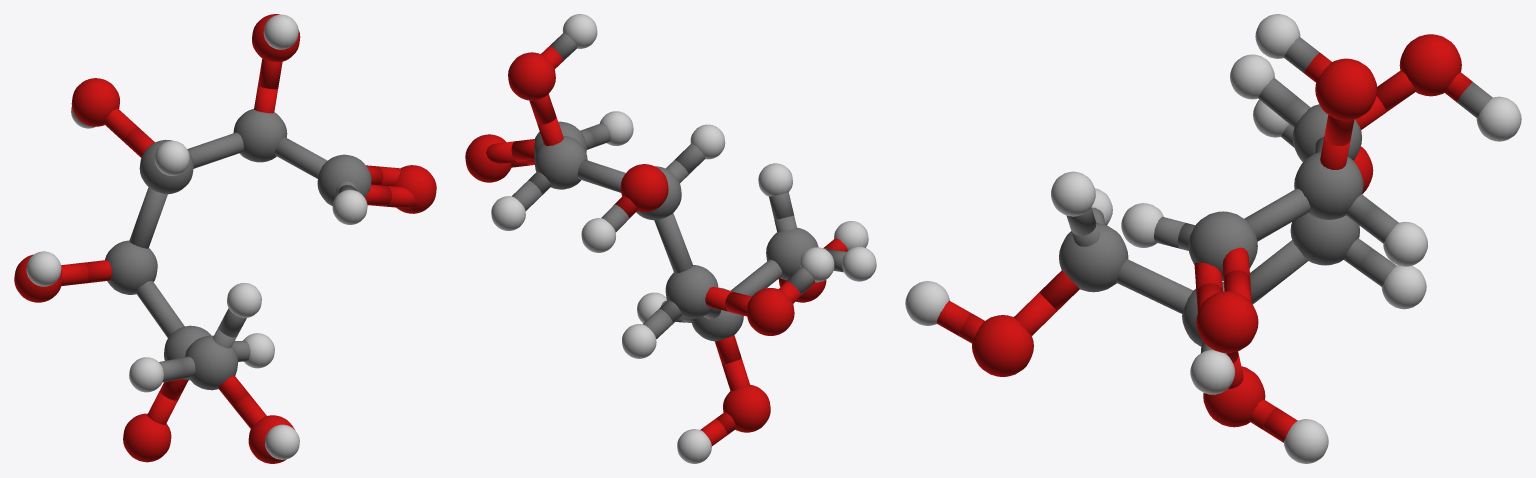
Rendered from glucose5.obj.
The picture shows the model from 3 angles, left to right: view 1: azimuth 30°, elevation 25°; view 2: azimuth 150°, elevation 25°; view 3: azimuth 270°, elevation 25°; orthographic projection. The views are drawn at different scales.
Parts seen in each view (by area): view 1: _2Sphere, _2Sphere.003__2Sphere, _2Sphere.004__2Sphere, _0Sphere.002__0Sphere, _0Sphere.001__0Sphere, _2Sphere.005__2Sphere, _2Sphere.001__2Sphere, _0Sphere.005__0Sphere, _20Cylinder, _18Cylinder.001__18Cylinder, _18Cylinder, _14Cylinder (+25 smaller); view 2: _2Sphere.003__2Sphere, _2Sphere, _0Sphere.003__0Sphere, _0Sphere, _0Sphere.001__0Sphere, _0Sphere.002__0Sphere, _2Sphere.004__2Sphere, _0Sphere.005__0Sphere, _20Cylinder, _2Sphere.002__2Sphere, _4Sphere.004__4Sphere, _4Sphere (+29 smaller); view 3: _2Sphere.004__2Sphere, _2Sphere.003__2Sphere, _0Sphere.005__0Sphere, _0Sphere.003__0Sphere, _0Sphere.004__0Sphere, _0Sphere.001__0Sphere, _2Sphere.005__2Sphere, _2Sphere, _0Sphere.002__0Sphere, _16Cylinder, _18Cylinder.001__18Cylinder, _14Cylinder (+27 smaller).
Part boxes in pixels (box(x1,y1,x2,y2)): _2Sphere: box(105, 240, 157, 294); _2Sphere.003__2Sphere: box(233, 109, 287, 162); _2Sphere.004__2Sphere: box(185, 335, 238, 390); _0Sphere.002__0Sphere: box(123, 413, 171, 462); _0Sphere.001__0Sphere: box(71, 78, 119, 126); _2Sphere.005__2Sphere: box(317, 154, 371, 205); _2Sphere.001__2Sphere: box(139, 139, 193, 194); _0Sphere.005__0Sphere: box(393, 165, 436, 213); _20Cylinder: box(129, 187, 167, 248); _18Cylinder.001__18Cylinder: box(136, 281, 184, 337); _18Cylinder: box(187, 132, 243, 168); _14Cylinder: box(275, 137, 327, 178); _2Sphere.003__2Sphere: box(534, 135, 587, 189); _2Sphere: box(665, 265, 718, 318); _0Sphere.003__0Sphere: box(508, 52, 555, 100); _0Sphere: box(746, 288, 794, 335); _0Sphere.001__0Sphere: box(620, 164, 668, 212); _0Sphere.002__0Sphere: box(723, 384, 770, 432); _2Sphere.004__2Sphere: box(766, 227, 818, 280); _0Sphere.005__0Sphere: box(465, 134, 511, 182); _20Cylinder: box(654, 213, 693, 273); _2Sphere.002__2Sphere: box(691, 287, 743, 341); _4Sphere.004__4Sphere: box(842, 246, 876, 281); _4Sphere: box(622, 324, 656, 358); _2Sphere.004__2Sphere: box(1059, 223, 1128, 292); _2Sphere.003__2Sphere: box(1294, 151, 1363, 219); _0Sphere.005__0Sphere: box(1196, 291, 1258, 353); _0Sphere.003__0Sphere: box(1315, 58, 1377, 120); _0Sphere.004__0Sphere: box(972, 315, 1033, 376); _0Sphere.001__0Sphere: box(1399, 34, 1461, 96); _2Sphere.005__2Sphere: box(1188, 211, 1257, 280); _2Sphere: box(1290, 213, 1359, 265); _0Sphere.002__0Sphere: box(1203, 366, 1265, 427); _16Cylinder: box(1116, 259, 1193, 313); _18Cylinder.001__18Cylinder: box(1250, 240, 1308, 304); _14Cylinder: box(1244, 188, 1310, 241).
Bounding box in the file's own units: 6.38 × 6.51 × 6.93.
